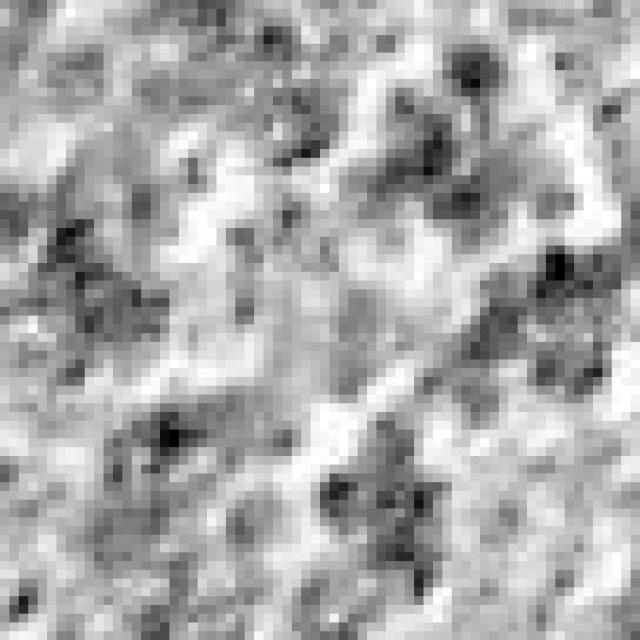inner: (183, 190, 440, 415)
lobe: (331, 39, 587, 248), (79, 387, 309, 569), (419, 238, 640, 424), (287, 411, 454, 639), (135, 27, 364, 168), (31, 164, 180, 363)
outer: (0, 0, 640, 640)
